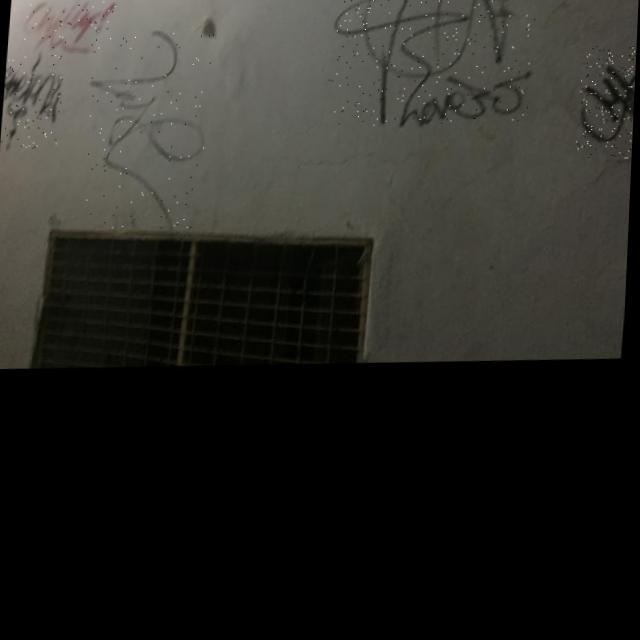-: (326, 0, 541, 140), (79, 26, 214, 238), (576, 50, 638, 167), (1, 54, 65, 150), (19, 0, 118, 58)
